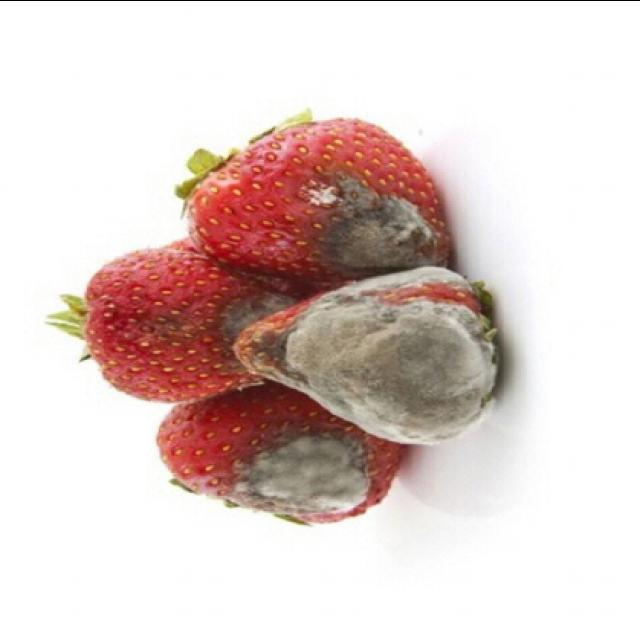Gray Mold: (234, 265, 501, 445), (280, 155, 455, 286), (128, 277, 304, 392), (218, 425, 379, 525)
